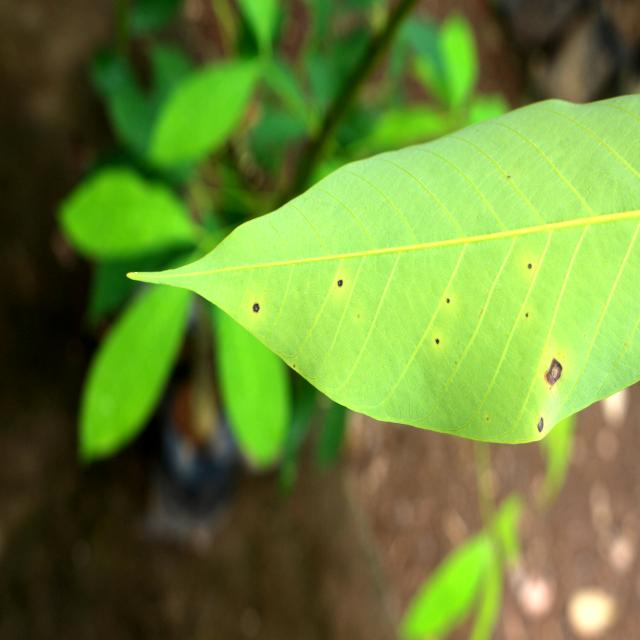Colletotrichum: (548, 358, 562, 384), (537, 417, 544, 432), (253, 303, 259, 313), (338, 280, 342, 286), (528, 264, 532, 268), (436, 339, 439, 344), (447, 299, 449, 303)
